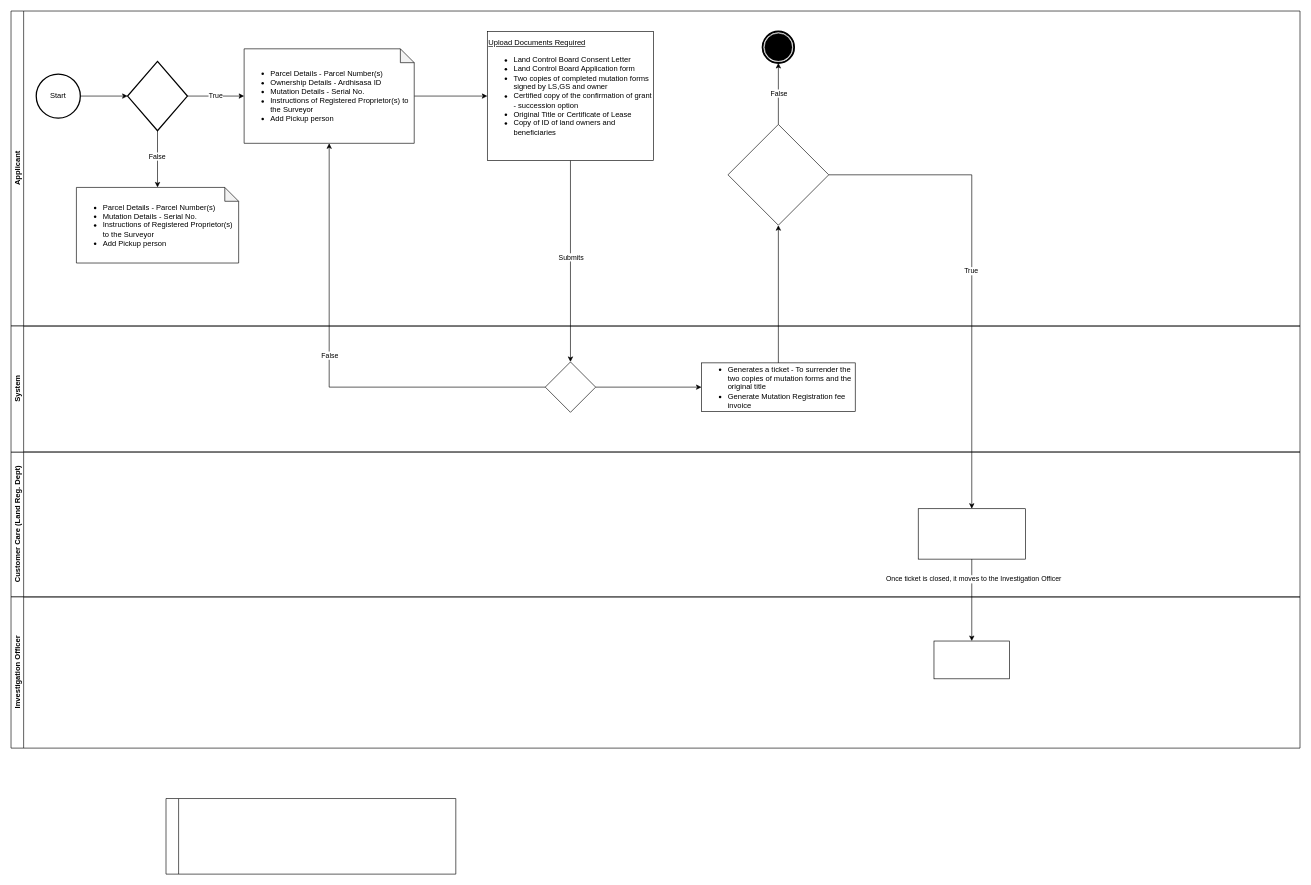
Some shapes in this 1311 by 885 pixel diagram are drawn without their labels. Here are the shapes that lost their labels. From the top down, the centre of each, then its label:
At pixel 157 95: "If parcel is enumerated?".
At pixel 778 174: "Pays invoice/ Downloads gate pass".
At pixel 570 386: "Validates".
At pixel 971 533: "Receives the surrendered documents and closes the ticket".
At pixel 310 836: "Lane 3".
